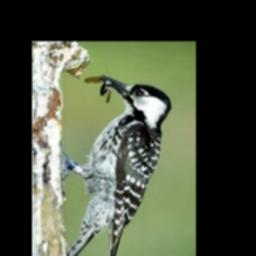Woodpecker: (67, 74, 173, 256)
